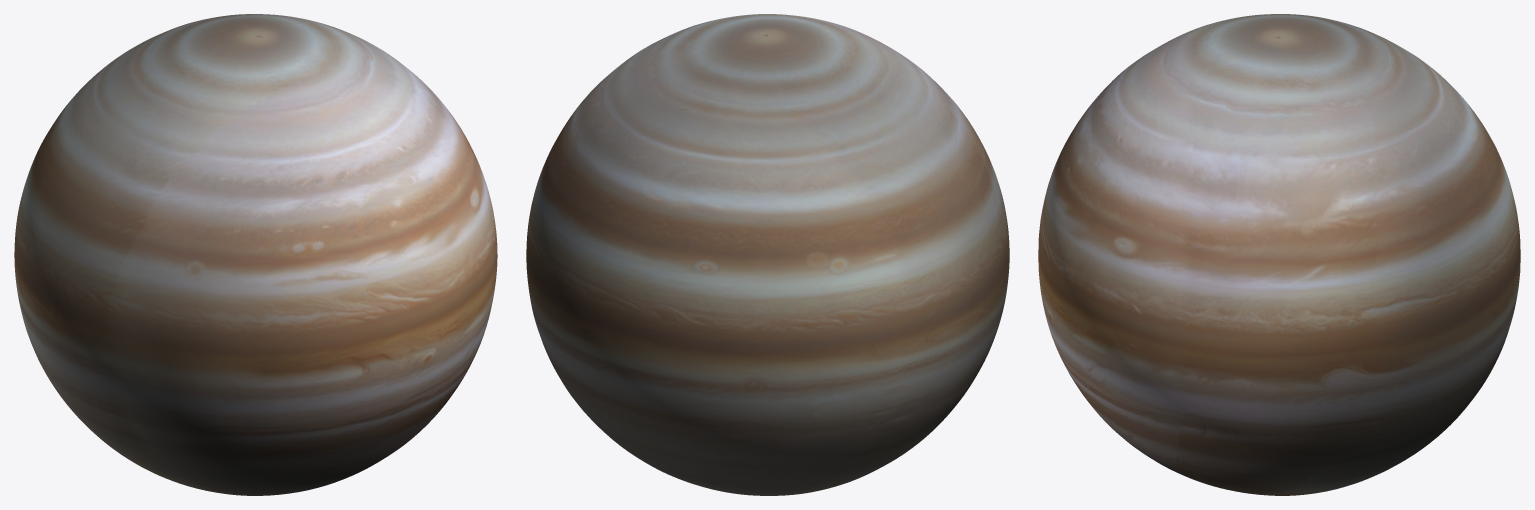
Rendered from Kepler_193_c_0919232111.glb.
3 views of the same model, side by side, from view 1: azimuth 30°, elevation 25°; view 2: azimuth 150°, elevation 25°; view 3: azimuth 270°, elevation 25° (orthographic).
Size of the model in its own units: 2 by 2 by 2.
1 material, 1 textured.
